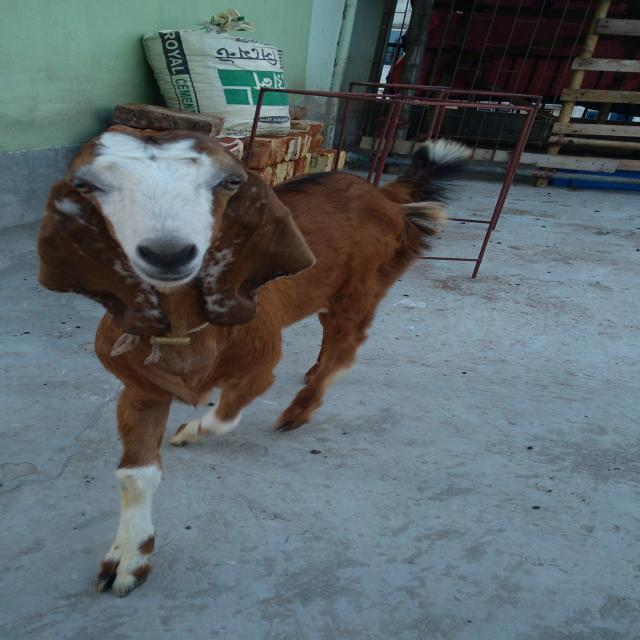Goat: (35, 122, 473, 597)
